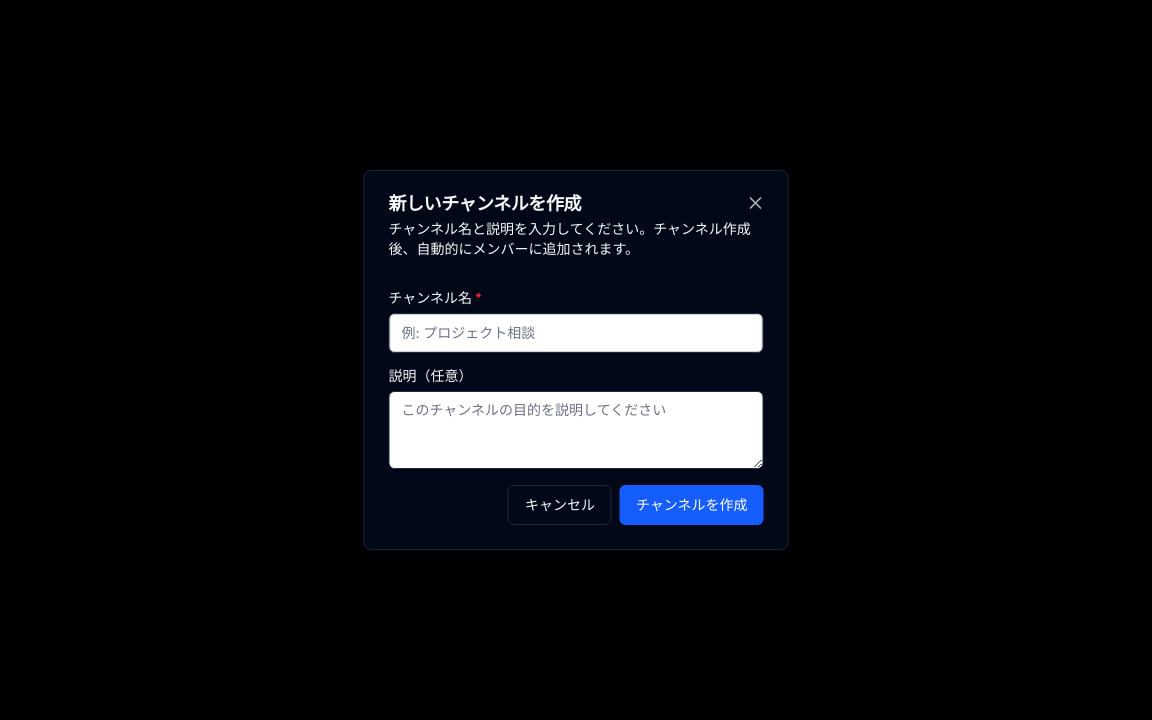
Test: CreateChannelDialog - チャンネル作成ダイアログ › エラーハンドリング › ネットワークエラー時、エラーメッセージが表示される
Type "テスト" into the field labelled "チャンネル名 *" at (576, 333), box [388,313,764,353]
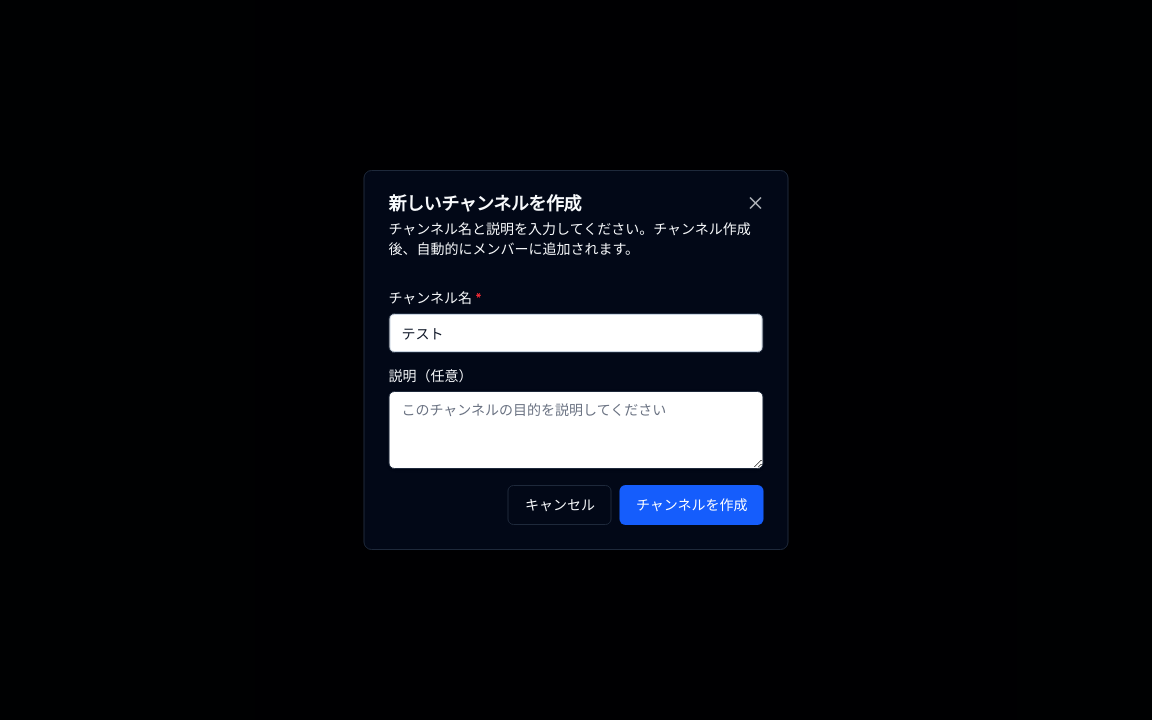
Click the button "チャンネルを作成" at (692, 505), box [620,485,764,525]
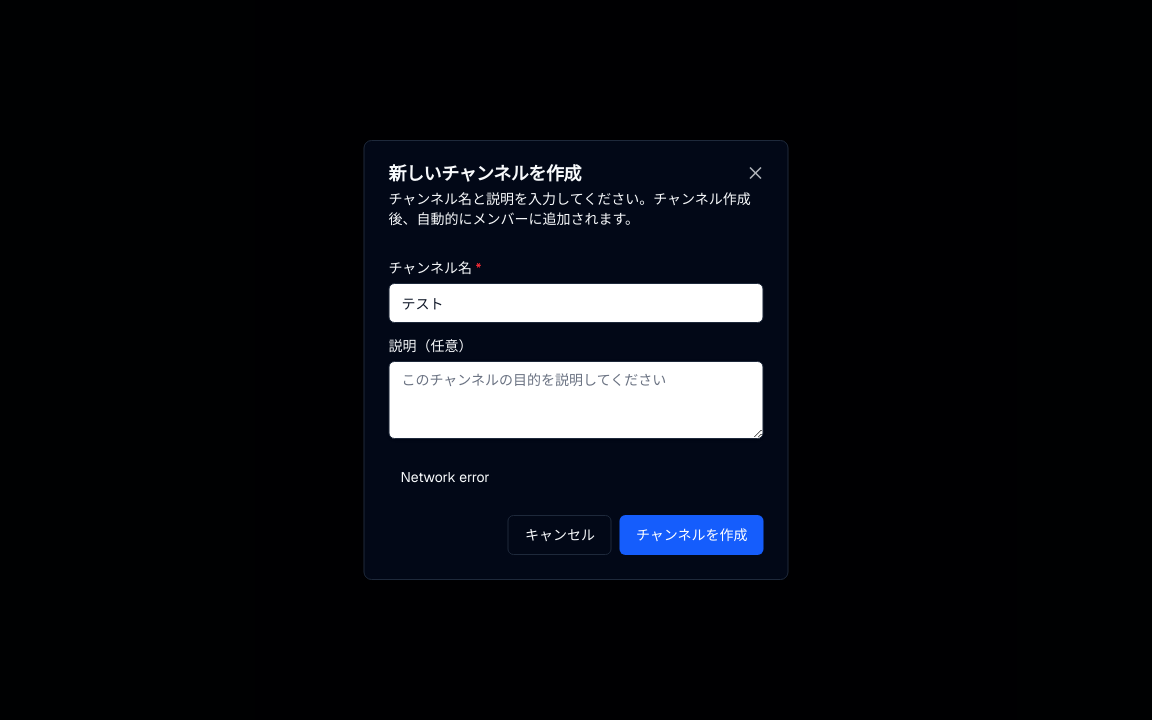
Expected: the text "Network error" is shown, [400,468,490,486]
